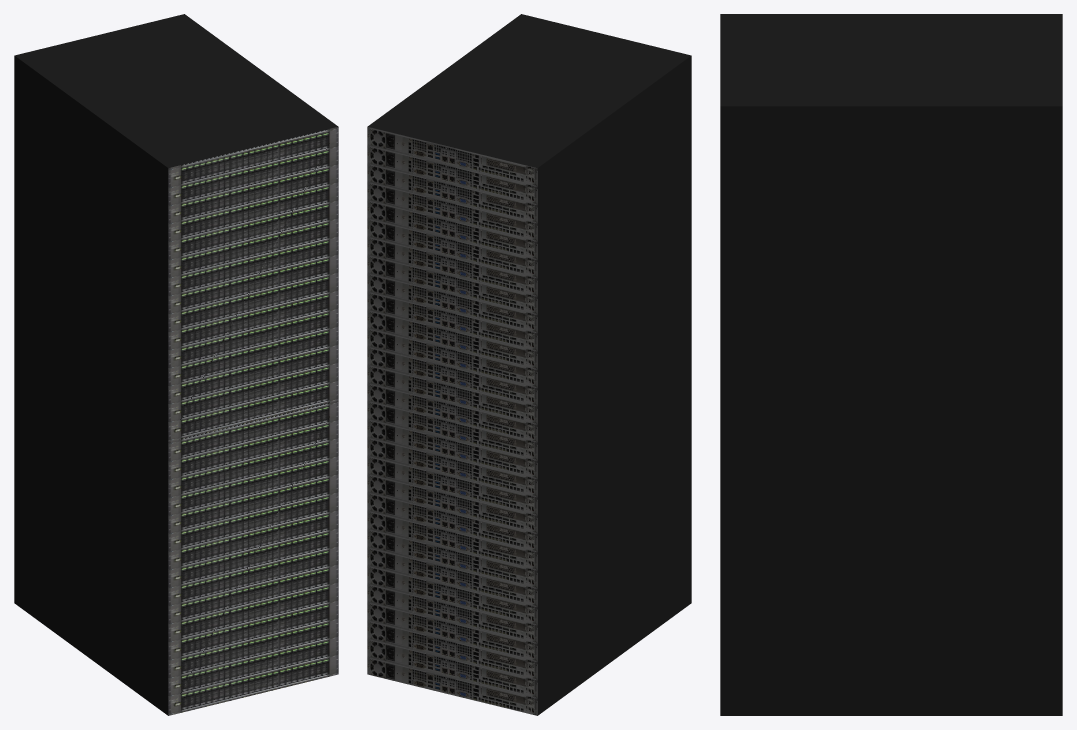
Rendered from ADR30.fbx.
3 renders of one model, left to right at view 1: azimuth 30°, elevation 25°; view 2: azimuth 150°, elevation 25°; view 3: azimuth 270°, elevation 25°, orthographic. The views are drawn at different scales.
Parts seen in each view (by area): view 1: ADR30; view 2: ADR30; view 3: ADR30.
Boxes of the visible parts, box(x1,y1,x2,y2) form: ADR30: box(14, 14, 338, 715); ADR30: box(367, 14, 691, 715); ADR30: box(720, 14, 1062, 715).
Size of the model in its own units: 434 by 1335 by 680.
3 materials, 2 textured.
